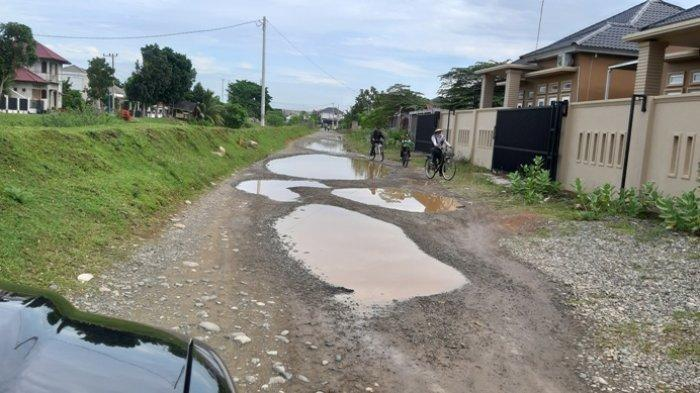Pothole: (273, 207, 463, 312), (218, 146, 409, 184), (333, 183, 470, 215), (224, 169, 331, 201), (271, 129, 381, 157)
